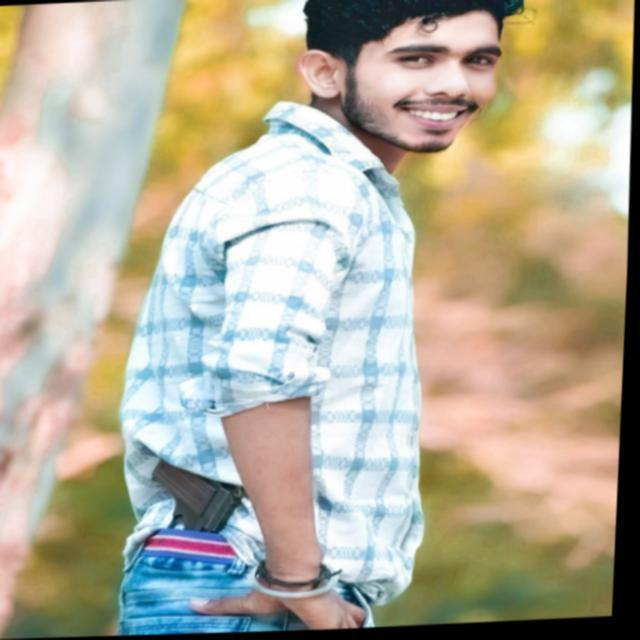weapon: (132, 450, 258, 592)
